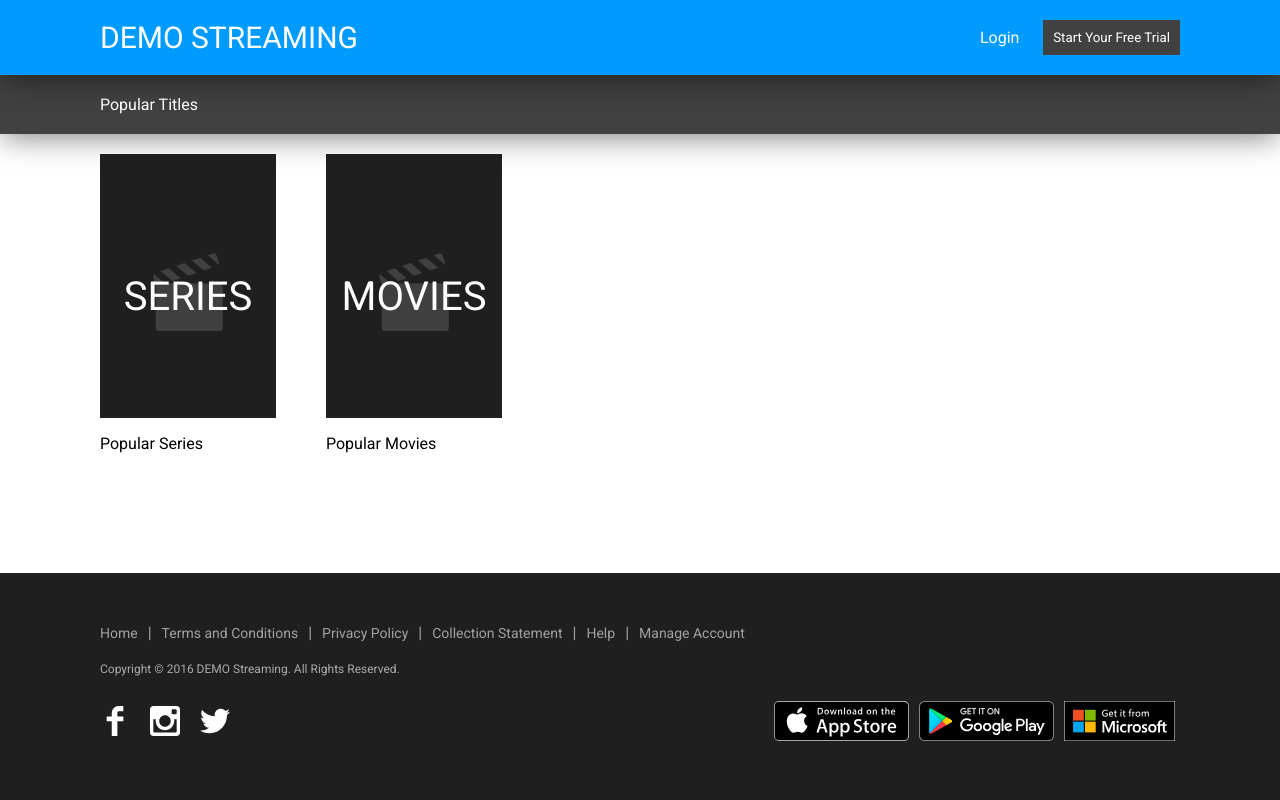
Test: <App /> › should open series
The width and height of the screenshot is (1280, 800).
Click the text "Popular Series": (152, 444) [100, 434, 203, 453]
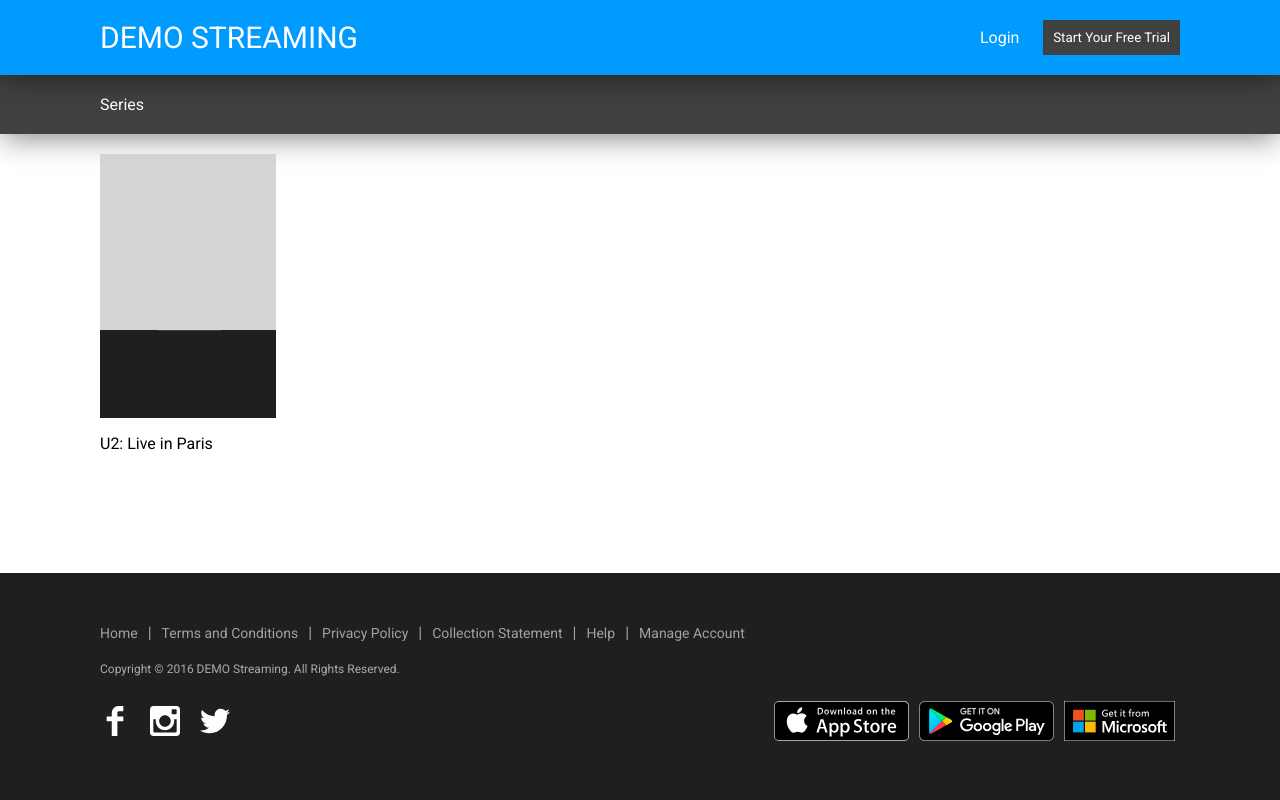
Check: the text "Series" is shown, box [100, 95, 144, 114]
Check: the text "U2: Live in Paris" is shown, box [100, 434, 213, 453]
